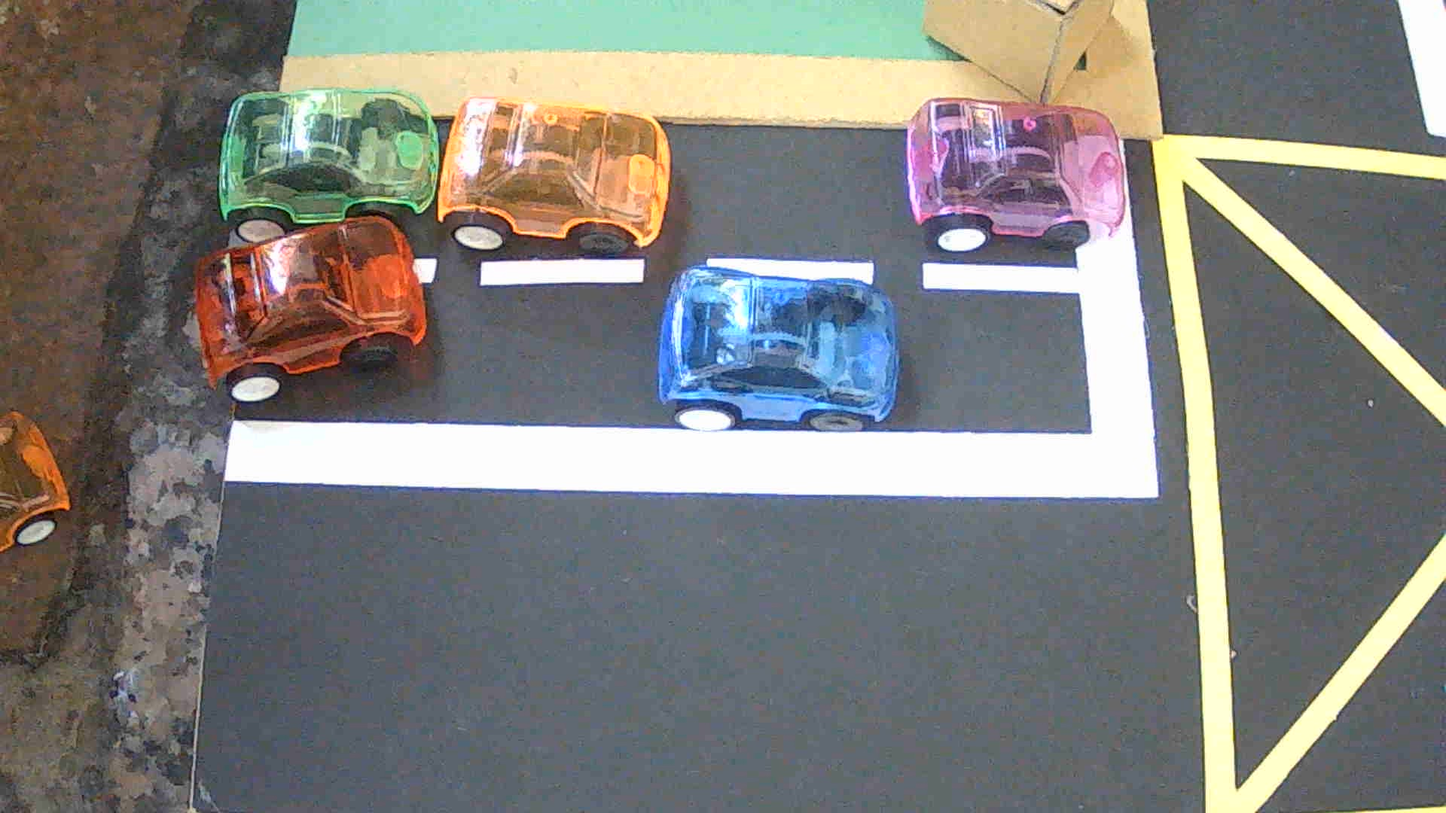Mobil biru: (657, 265, 899, 431)
Mobil hijau: (220, 88, 439, 242)
Mobil merah: (195, 215, 426, 402)
Mobil orange: (437, 97, 670, 256)
Mobil ungu: (906, 98, 1126, 251)
